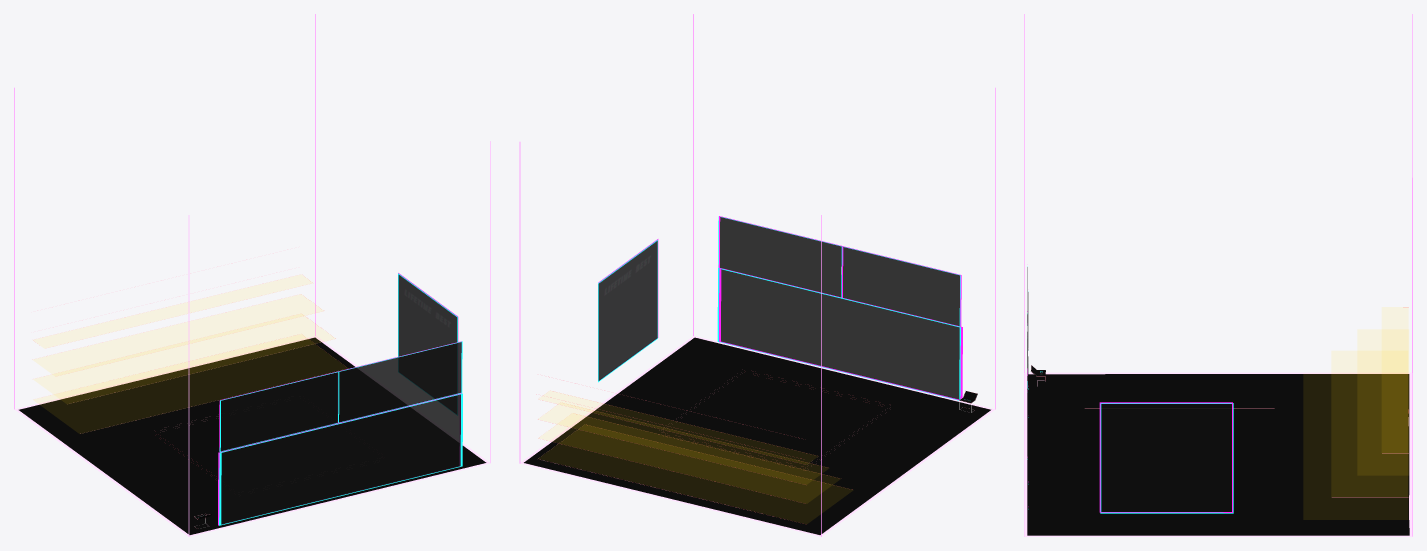
File: QUIZZONE.glb
3 views of the same model, side by side, from view 1: azimuth 30°, elevation 25°; view 2: azimuth 150°, elevation 25°; view 3: azimuth 270°, elevation 25° (orthographic). The views are drawn at different scales.
Parts seen in each view (by area): view 1: ALL, Questions, Number_questions, TIME, stairs, LEADERBOARD.002; view 2: ALL, Questions, stairs, Number_questions, TIME, LEADERBOARD.002; view 3: ALL, LEADERBOARD.002, stairs.
Part boxes in pixels (bbox=[...]): ALL: bbox=[14, 14, 490, 536]; Questions: bbox=[218, 393, 462, 525]; Number_questions: bbox=[338, 341, 462, 422]; TIME: bbox=[219, 371, 339, 451]; stairs: bbox=[32, 275, 348, 433]; LEADERBOARD.002: bbox=[398, 273, 458, 414]; ALL: bbox=[519, 14, 995, 536]; Questions: bbox=[717, 268, 962, 400]; stairs: bbox=[538, 391, 852, 523]; Number_questions: bbox=[718, 216, 841, 297]; TIME: bbox=[841, 246, 961, 327]; LEADERBOARD.002: bbox=[598, 239, 658, 382]; ALL: bbox=[1024, 14, 1412, 536]; LEADERBOARD.002: bbox=[1099, 402, 1233, 513]; stairs: bbox=[1331, 307, 1409, 519].
Size of what is drawn, in the model's own units: 30.59 by 31.01 by 30.44.
